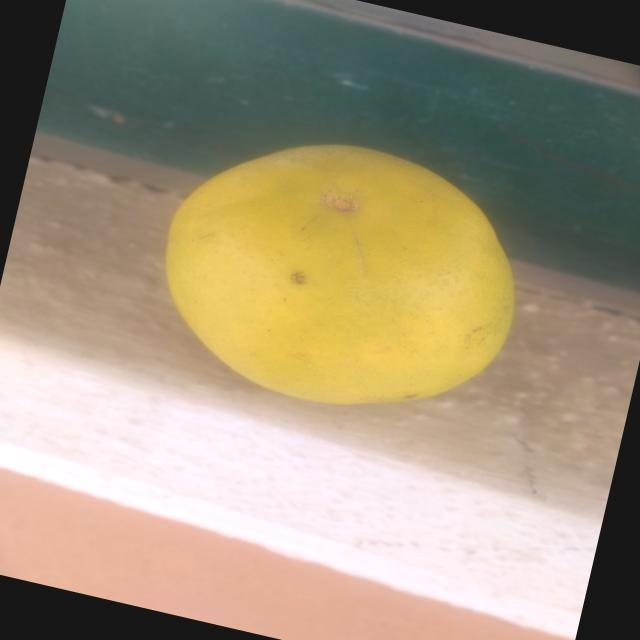agrume: (128, 100, 552, 456)
